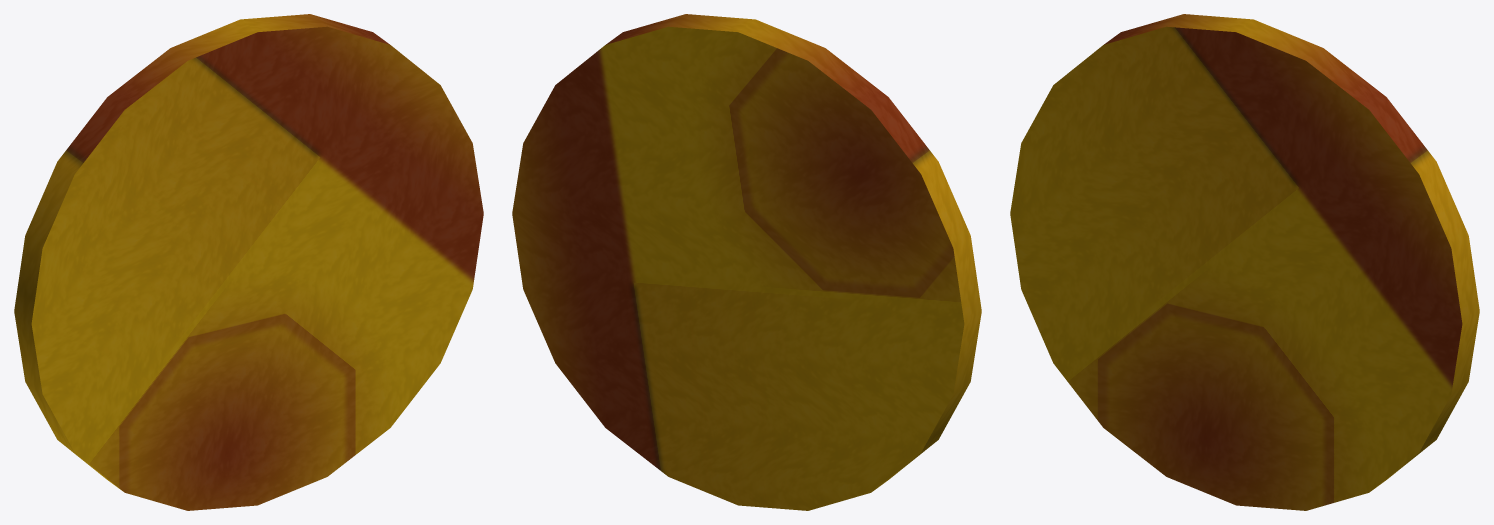
File: Target_Demo.fbx
3 renders of one model, left to right at view 1: azimuth 30°, elevation 25°; view 2: azimuth 150°, elevation 25°; view 3: azimuth 330°, elevation 25°, orthographic.
Parts seen in each view (by area): view 1: Target; view 2: Target; view 3: Target.
Part boxes in pixels (x1,y1,x2,y2): Target: (14, 14, 483, 510); Target: (512, 14, 981, 510); Target: (1010, 14, 1479, 510).
Bounding box in the file's own units: 150 × 150 × 10.
